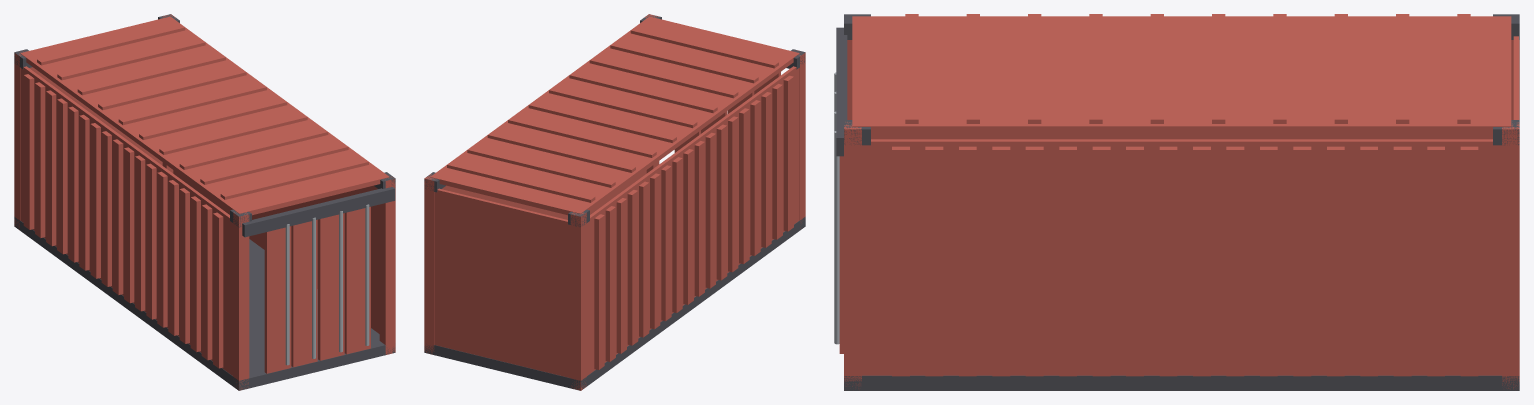
File: bt-d2-container-red.glb
The picture shows the model from 3 angles, left to right: view 1: azimuth 30°, elevation 25°; view 2: azimuth 150°, elevation 25°; view 3: azimuth 270°, elevation 25°; orthographic projection. The views are drawn at different scales.
Parts seen in each view (by area): view 1: bt-d2-container-red_roof, bt-d2-container-red_side-1, bt-d2-container-red_floor, bt-d2-container-red_door0, bt-d2-container-red_door3, bt-d2-container-red_door1, bt-d2-container-red_door2, bt-d2-container-red_post-11, bt-d2-container-red_post11, bt-d2-container-red_header, bt-d2-container-red_side1, bt-d2-container-red_rib-1_16 (+33 smaller); view 2: bt-d2-container-red_roof, bt-d2-container-red_front, bt-d2-container-red_side-1, bt-d2-container-red_floor, bt-d2-container-red_post-1-1, bt-d2-container-red_post1-1, bt-d2-container-red_rib-1_3, bt-d2-container-red_rib-1_11, bt-d2-container-red_rib-1_2, bt-d2-container-red_rib-1_5, bt-d2-container-red_rib-1_6, bt-d2-container-red_rib-1_12 (+24 smaller); view 3: bt-d2-container-red_side1, bt-d2-container-red_roof, bt-d2-container-red_floor, bt-d2-container-red_post1-1, bt-d2-container-red_post11, bt-d2-container-red_rib1_2, bt-d2-container-red_rib1_5, bt-d2-container-red_rib1_7, bt-d2-container-red_rib1_11, bt-d2-container-red_rib1_13, bt-d2-container-red_rib1_14, bt-d2-container-red_rib1_16 (+25 smaller).
Boxes of the visible parts, x1=… form: bt-d2-container-red_roof: x1=20, y1=16, x2=389, y2=215; bt-d2-container-red_side-1: x1=20, y1=66, x2=232, y2=375; bt-d2-container-red_floor: x1=14, y1=216, x2=395, y2=390; bt-d2-container-red_door0: x1=264, y1=226, x2=291, y2=373; bt-d2-container-red_door3: x1=344, y1=206, x2=370, y2=354; bt-d2-container-red_door1: x1=291, y1=219, x2=317, y2=367; bt-d2-container-red_door2: x1=318, y1=213, x2=344, y2=360; bt-d2-container-red_post-11: x1=233, y1=212, x2=249, y2=390; bt-d2-container-red_post11: x1=379, y1=177, x2=395, y2=354; bt-d2-container-red_header: x1=242, y1=187, x2=395, y2=237; bt-d2-container-red_side1: x1=173, y1=170, x2=379, y2=333; bt-d2-container-red_rib-1_16: x1=201, y1=204, x2=212, y2=360; bt-d2-container-red_roof: x1=430, y1=16, x2=799, y2=215; bt-d2-container-red_front: x1=434, y1=188, x2=570, y2=377; bt-d2-container-red_side-1: x1=587, y1=66, x2=799, y2=375; bt-d2-container-red_floor: x1=424, y1=216, x2=805, y2=390; bt-d2-container-red_post-1-1: x1=570, y1=212, x2=586, y2=390; bt-d2-container-red_post1-1: x1=424, y1=174, x2=434, y2=354; bt-d2-container-red_rib-1_3: x1=627, y1=190, x2=638, y2=345; bt-d2-container-red_rib-1_11: x1=716, y1=124, x2=727, y2=280; bt-d2-container-red_rib-1_2: x1=616, y1=198, x2=626, y2=353; bt-d2-container-red_rib-1_5: x1=650, y1=173, x2=660, y2=329; bt-d2-container-red_rib-1_6: x1=661, y1=165, x2=671, y2=321; bt-d2-container-red_rib-1_12: x1=728, y1=116, x2=738, y2=272; bt-d2-container-red_side1: x1=862, y1=139, x2=1501, y2=375; bt-d2-container-red_roof: x1=852, y1=16, x2=1511, y2=133; bt-d2-container-red_floor: x1=844, y1=375, x2=1519, y2=390; bt-d2-container-red_post1-1: x1=1502, y1=122, x2=1519, y2=389; bt-d2-container-red_post11: x1=844, y1=122, x2=861, y2=388; bt-d2-container-red_rib1_2: x1=1393, y1=146, x2=1411, y2=376; bt-d2-container-red_rib1_5: x1=1293, y1=146, x2=1311, y2=376; bt-d2-container-red_rib1_7: x1=1226, y1=146, x2=1244, y2=376; bt-d2-container-red_rib1_11: x1=1092, y1=146, x2=1110, y2=376; bt-d2-container-red_rib1_13: x1=1025, y1=146, x2=1043, y2=376; bt-d2-container-red_rib1_14: x1=992, y1=146, x2=1010, y2=376; bt-d2-container-red_rib1_16: x1=925, y1=146, x2=943, y2=376.
Bounding box in the file's own units: 2.57 × 2.64 × 6.15.
